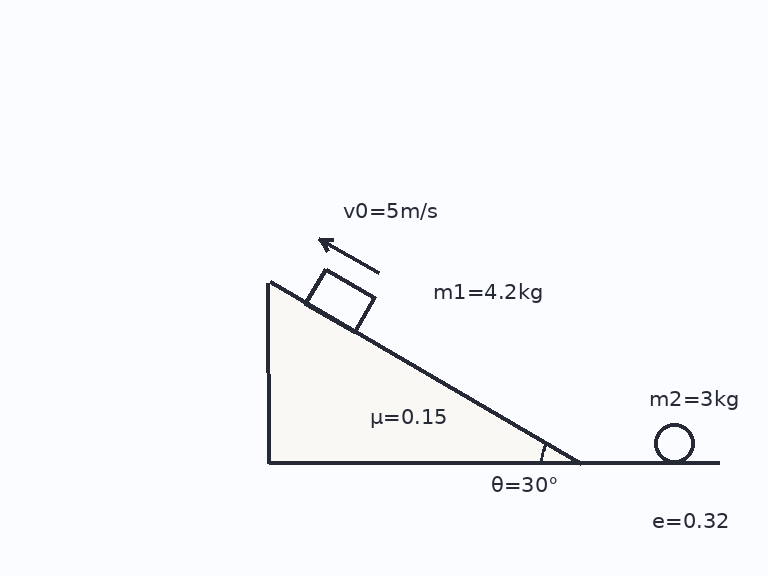ball: (652, 421, 696, 465)
block: (303, 267, 376, 334)
ramp: (266, 280, 583, 465)
